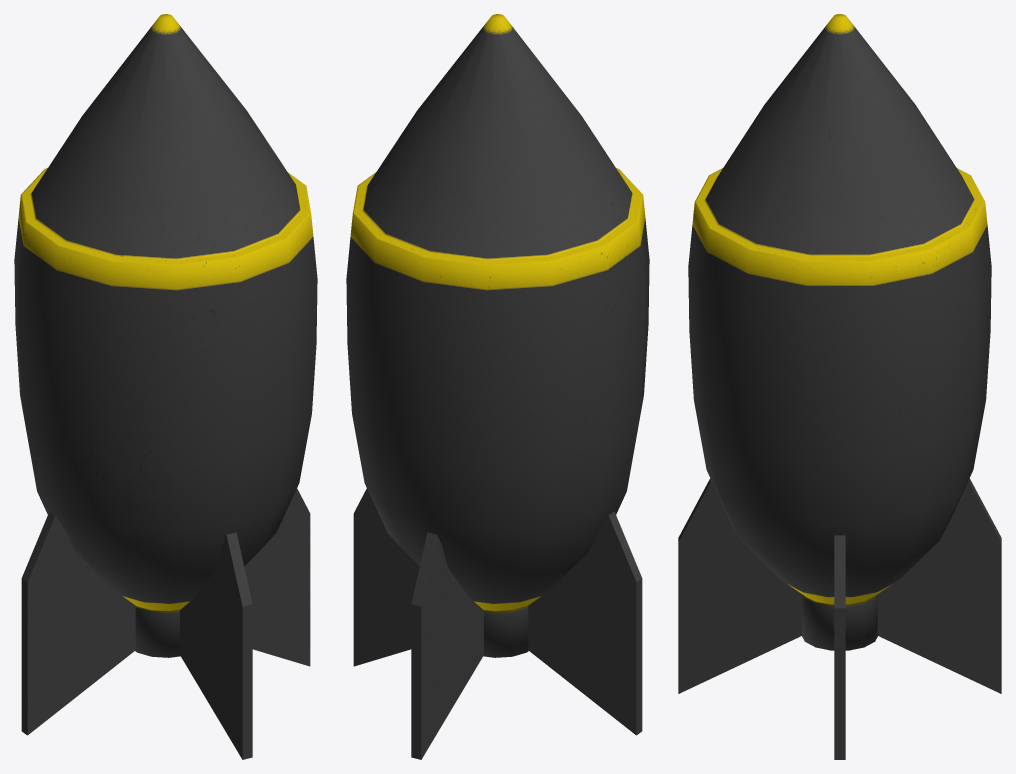
File: tenlua.fbx
3 renders of one model, left to right at view 1: azimuth 30°, elevation 25°; view 2: azimuth 150°, elevation 25°; view 3: azimuth 270°, elevation 25°, orthographic.
Parts seen in each view (by area): view 1: Cube.001; view 2: Cube.001; view 3: Cube.001.
Boxes of the visible parts, bbox=[...] form: Cube.001: bbox=[14, 14, 317, 759]; Cube.001: bbox=[346, 14, 649, 759]; Cube.001: bbox=[678, 14, 1001, 759].
Bounding box in the file's own units: 0.3334 × 0.7688 × 0.3334.
